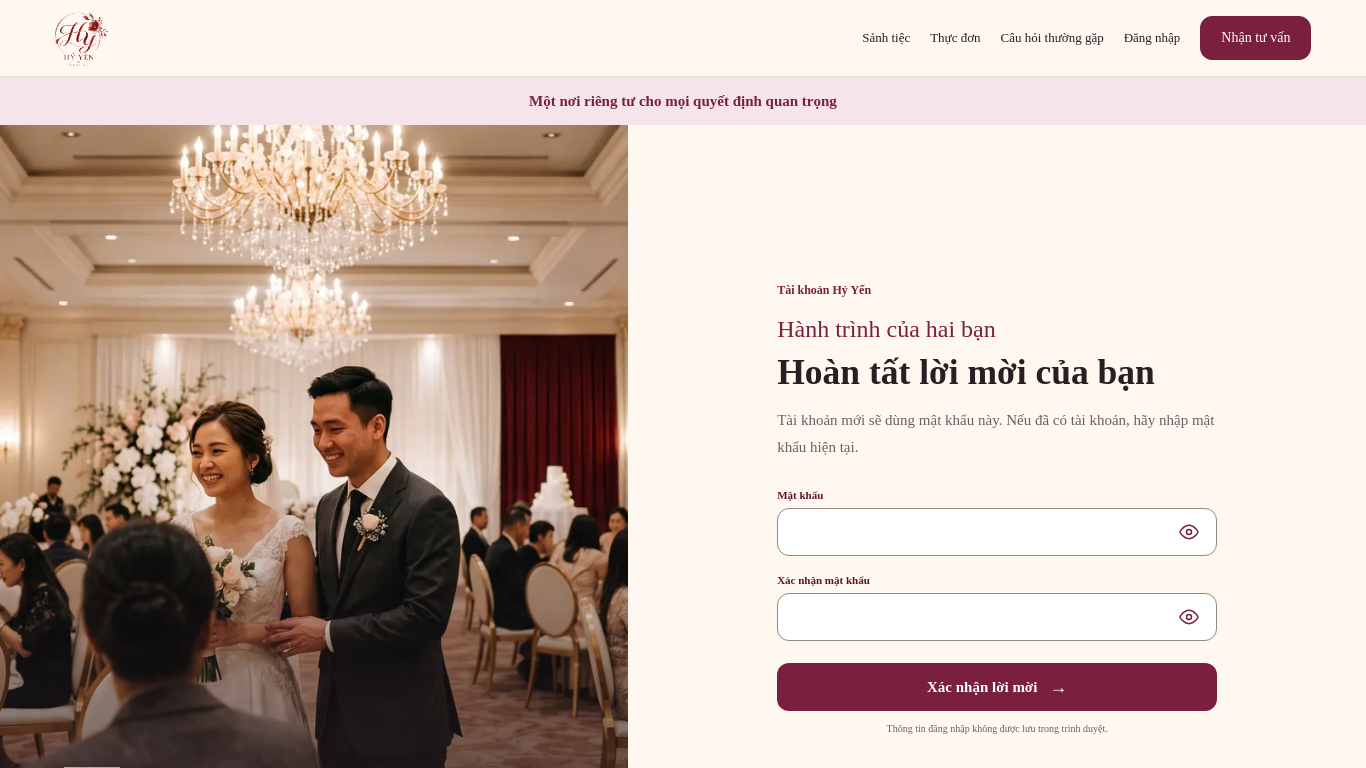
Test case: Identity login password visibility toggle › displays inline error when passwords do not match
Type "pass1" into the password field labelled "Mật khẩu". click: (997, 532)
box: [777, 508, 1217, 556]
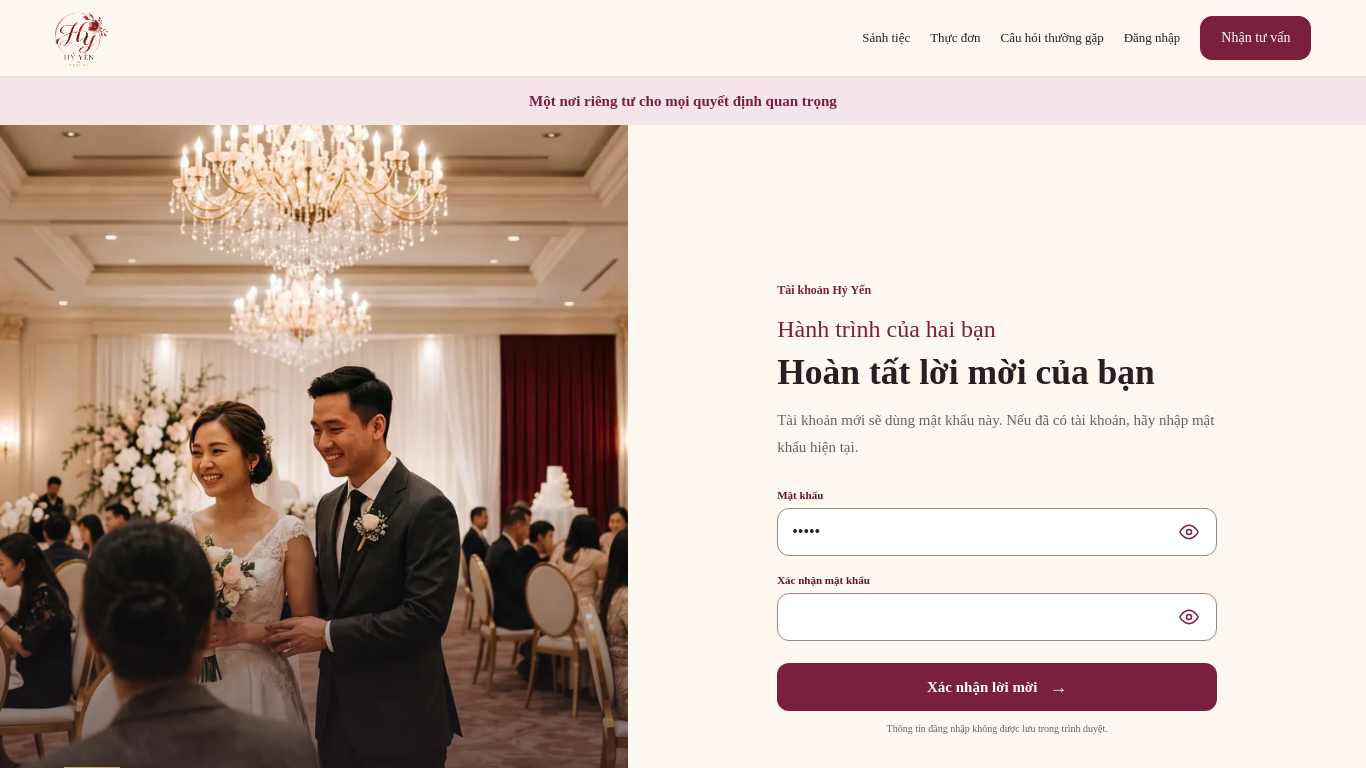
Type "pass2" into the password field labelled "Xác nhận mật khẩu". click: (997, 617)
box: [777, 593, 1217, 641]
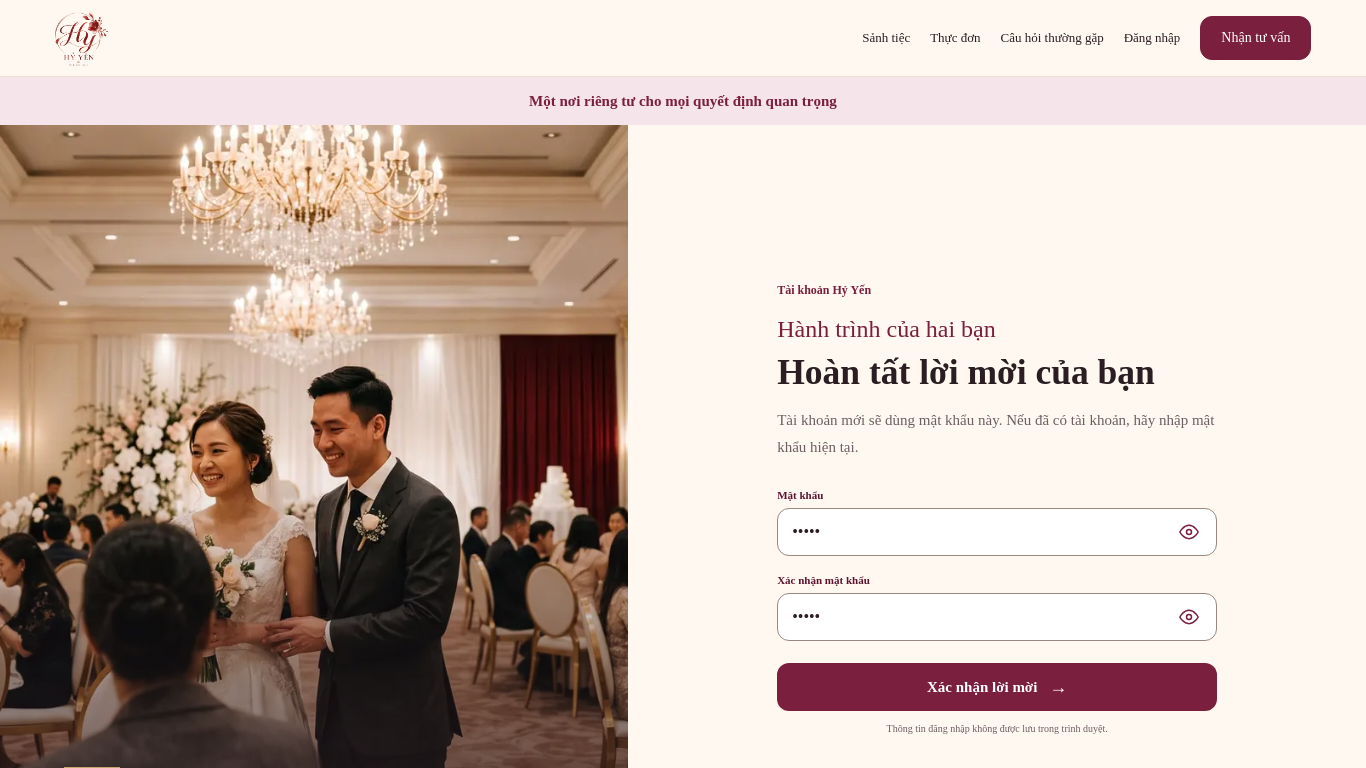
Click the button "Xác nhận lời mời →". click: (997, 687)
box: [777, 663, 1217, 711]
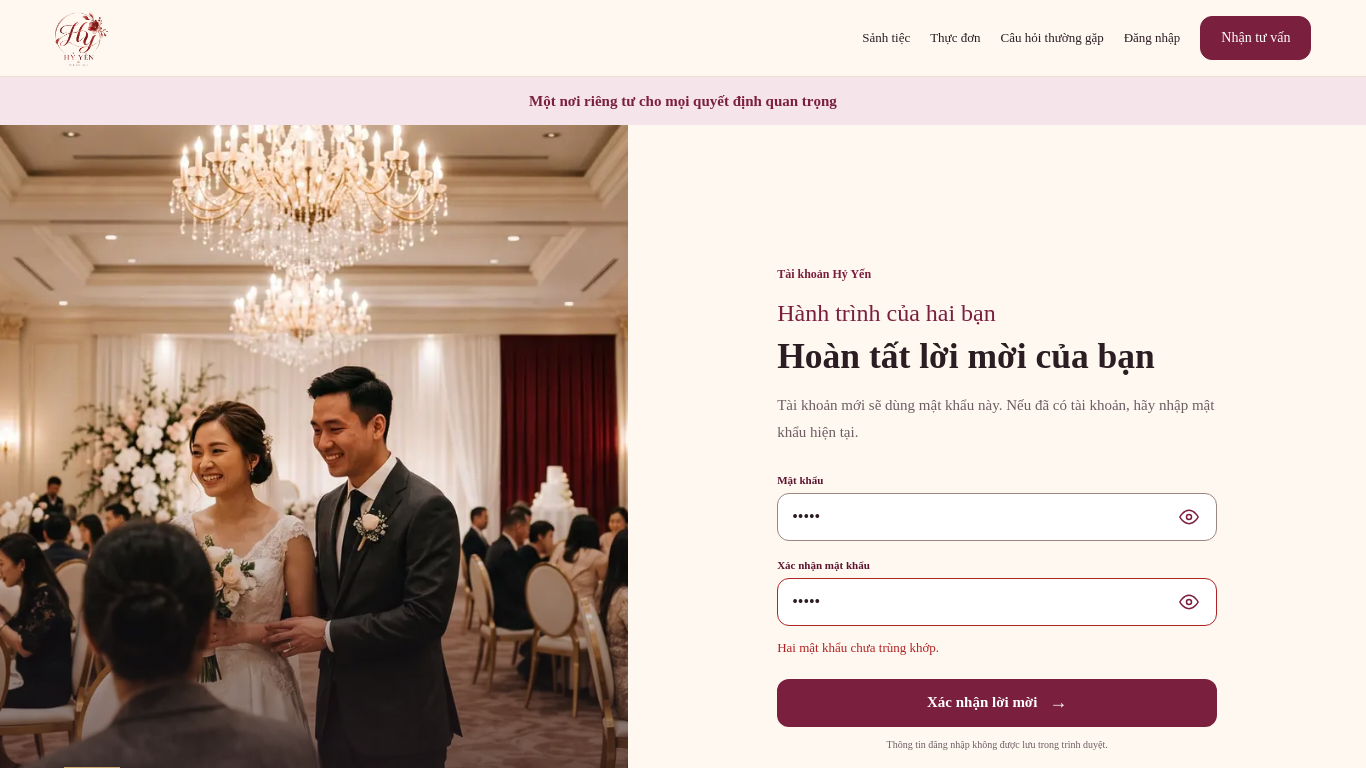
Result: the text "Hai mật khẩu chưa trùng khớp." is shown once at [777, 640, 939, 655]
